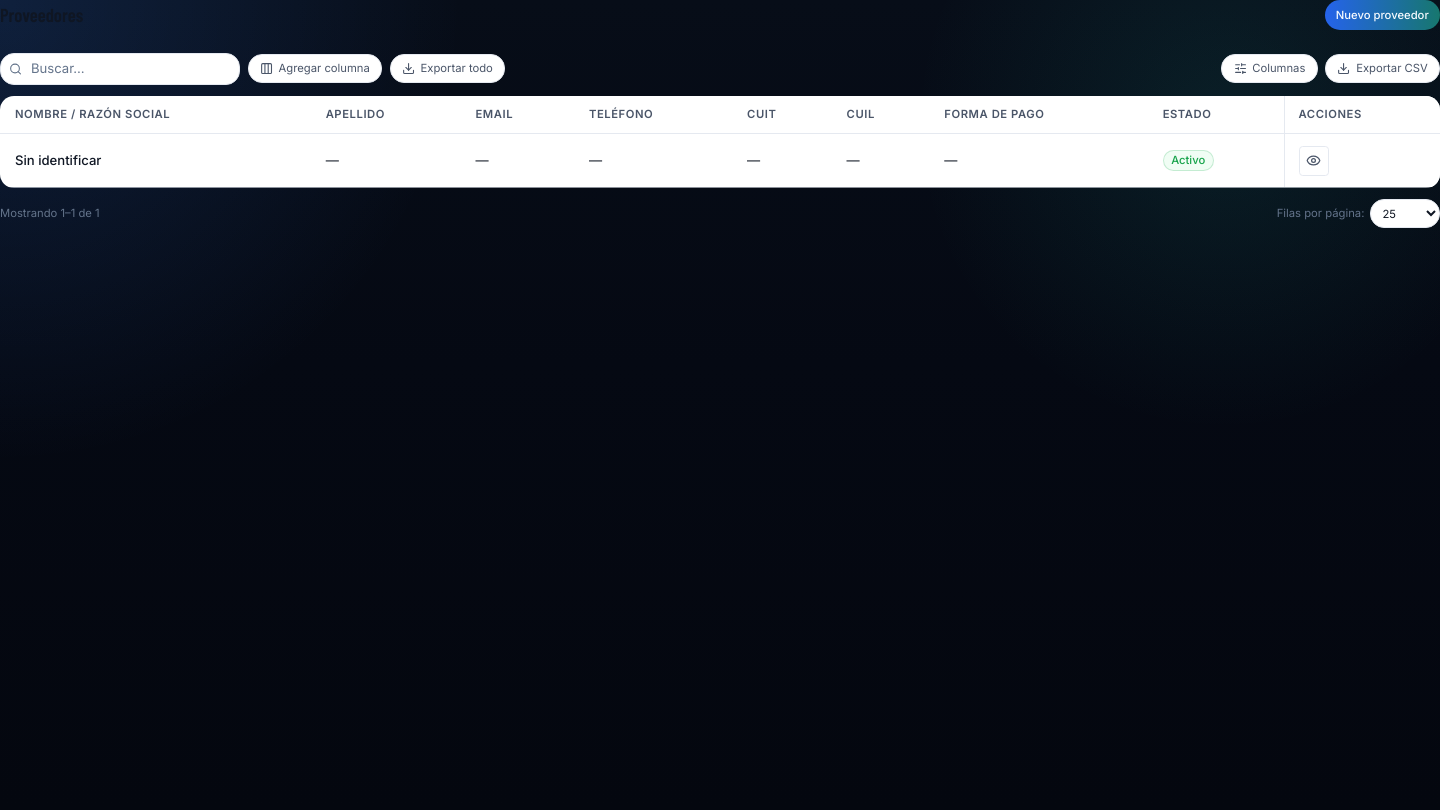
Todos los datos: suppliers › permite consultar campos históricos ocultos incluso en el centinela, sin habilitar edición
Check: the text "Entrega únicamente los martes" is not shown
Click the button named "Todos los datos del proveedor" at point(1314, 160), box left=1299, top=146, right=1329, bottom=176
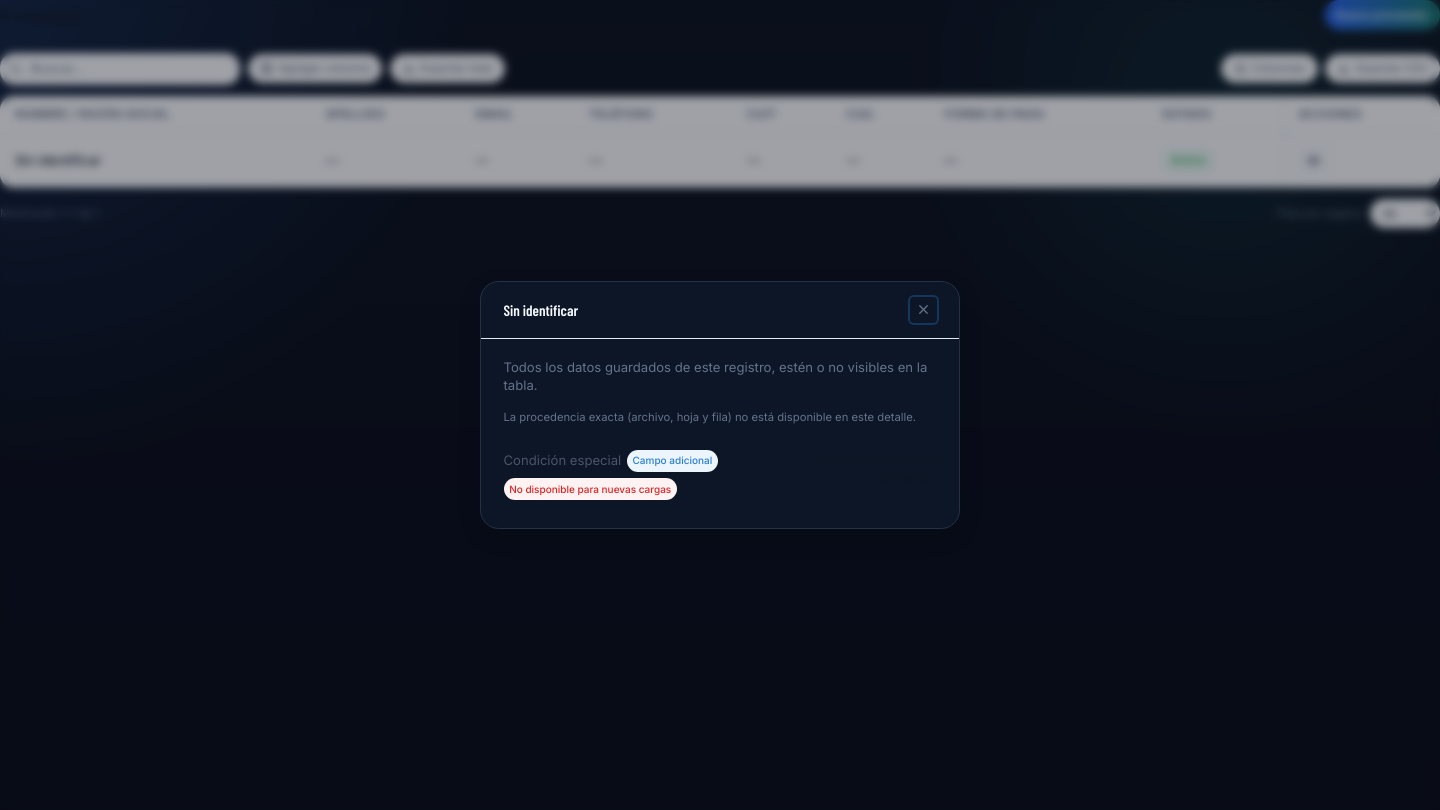
Check: the text "No disponible para nuevas cargas" is shown, box left=504, top=478, right=677, bottom=500
